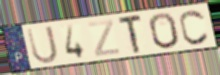4: (63, 22, 88, 60)
C: (178, 8, 211, 46)
O: (147, 12, 181, 51)
T: (118, 12, 144, 55)
U: (25, 24, 60, 66)
Z: (87, 18, 122, 58)
